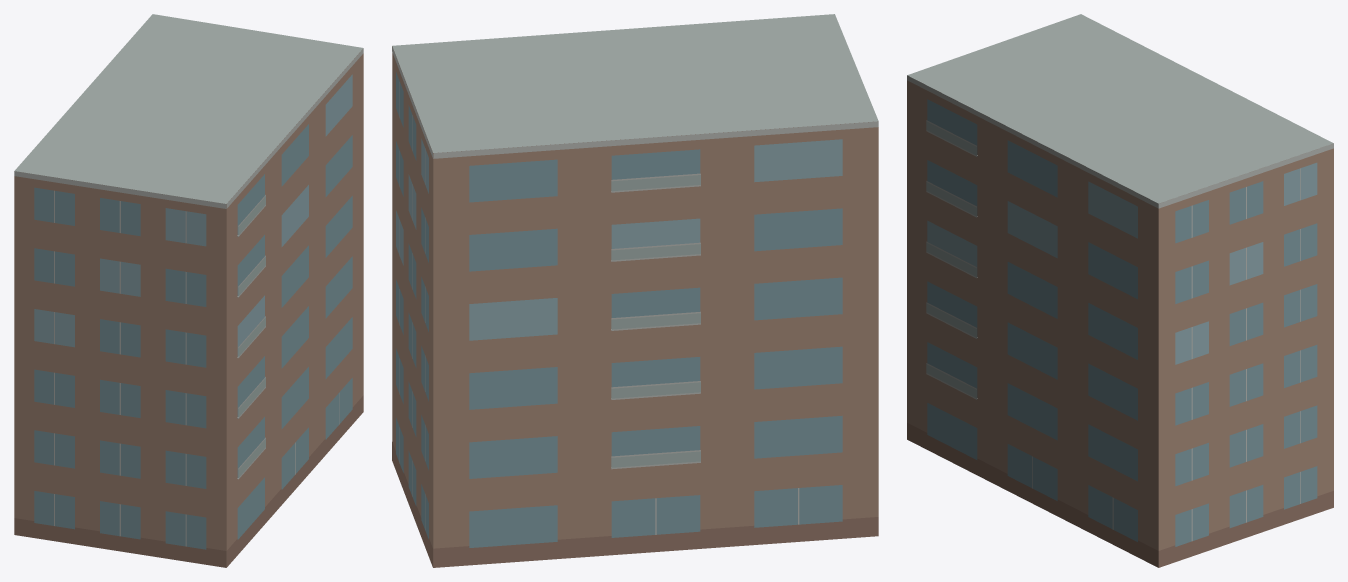
The model's file is survey-upis-32981296.glb.
3 views of the same model, side by side, from view 1: azimuth 30°, elevation 25°; view 2: azimuth 150°, elevation 25°; view 3: azimuth 270°, elevation 25° (orthographic). The views are drawn at different scales.
Parts seen in each view (by area): view 1: survey-upis-32981296.tmp; view 2: survey-upis-32981296.tmp; view 3: survey-upis-32981296.tmp.
Boxes of the visible parts, <box> form: survey-upis-32981296.tmp: <box>14,14,363,567</box>; survey-upis-32981296.tmp: <box>392,14,878,567</box>; survey-upis-32981296.tmp: <box>907,14,1333,567</box>.
Bounding box in the file's own units: 19.65 × 17.6 × 18.7.
